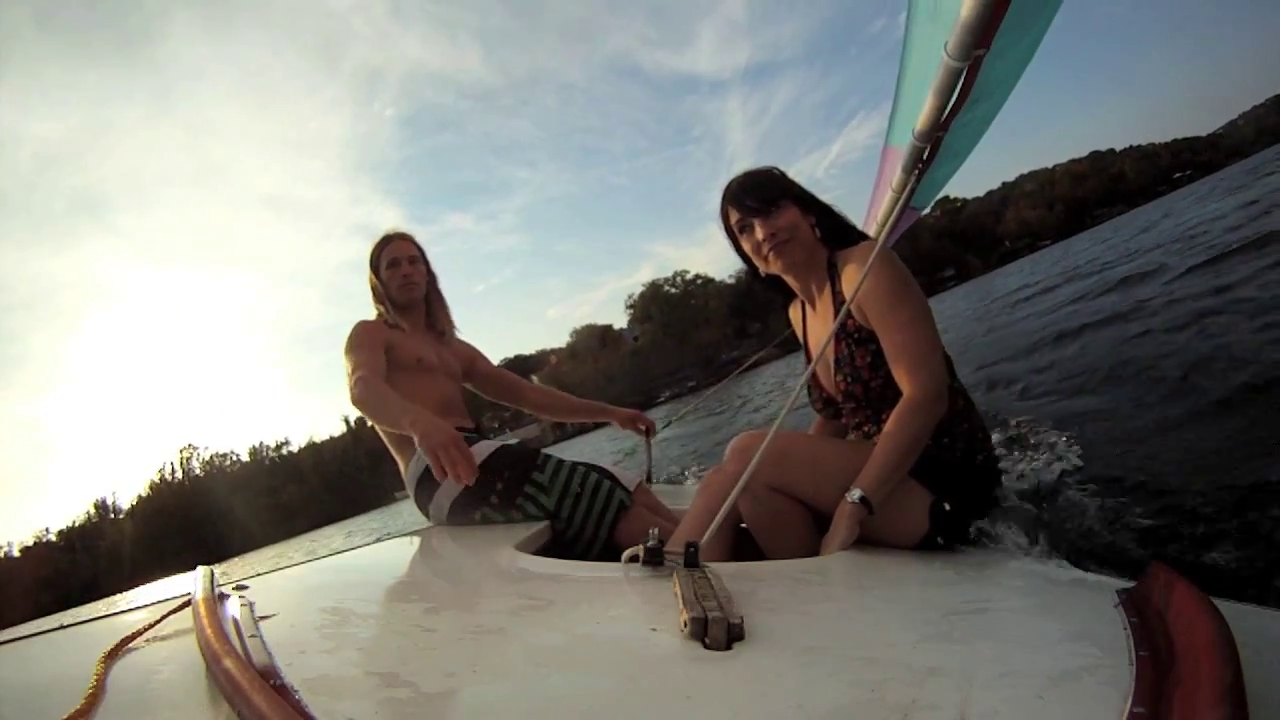person: (660, 166, 998, 563), (342, 232, 682, 556)
